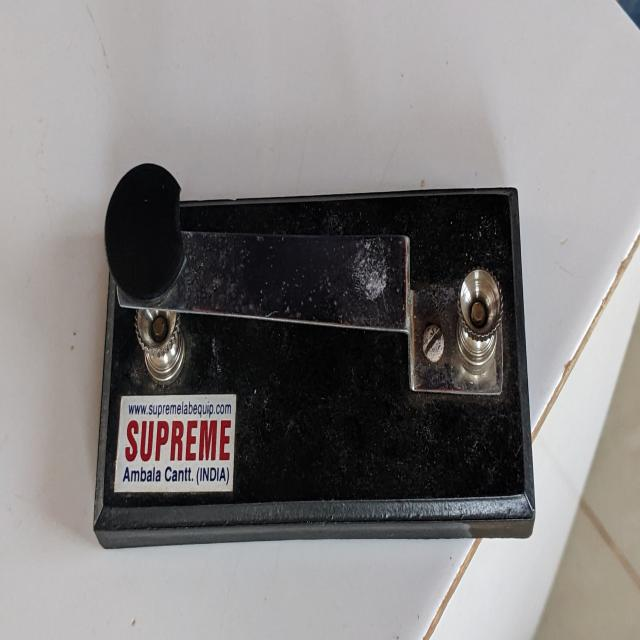Press Key: (86, 171, 546, 564)
